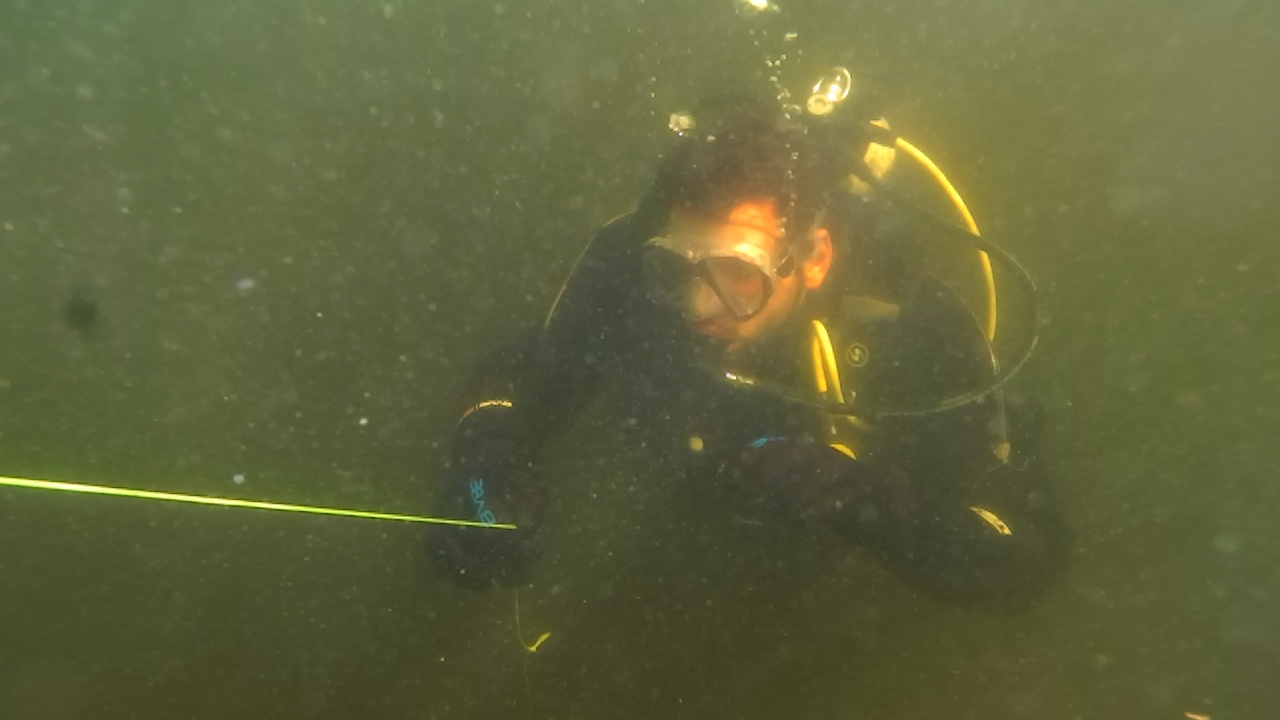Diver: (412, 58, 1084, 618)
Hand: (690, 416, 892, 554), (426, 434, 554, 586)
Head: (606, 90, 836, 354)
